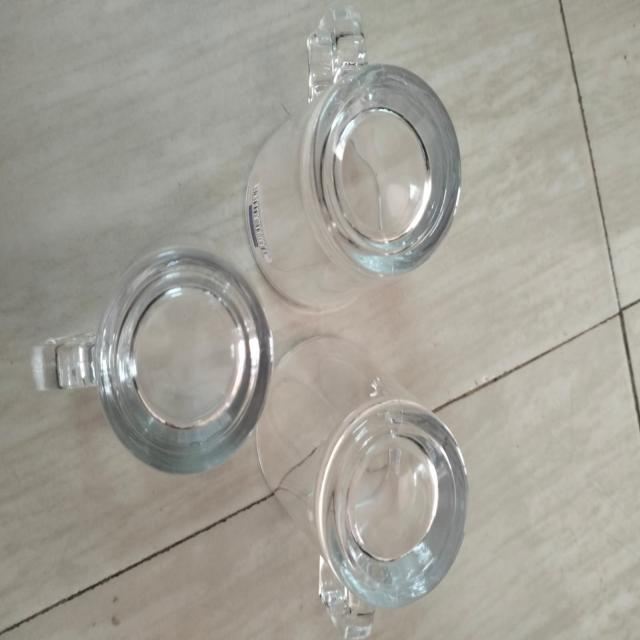glass-VX4N: (244, 7, 463, 313), (256, 333, 470, 640), (33, 238, 273, 474)
